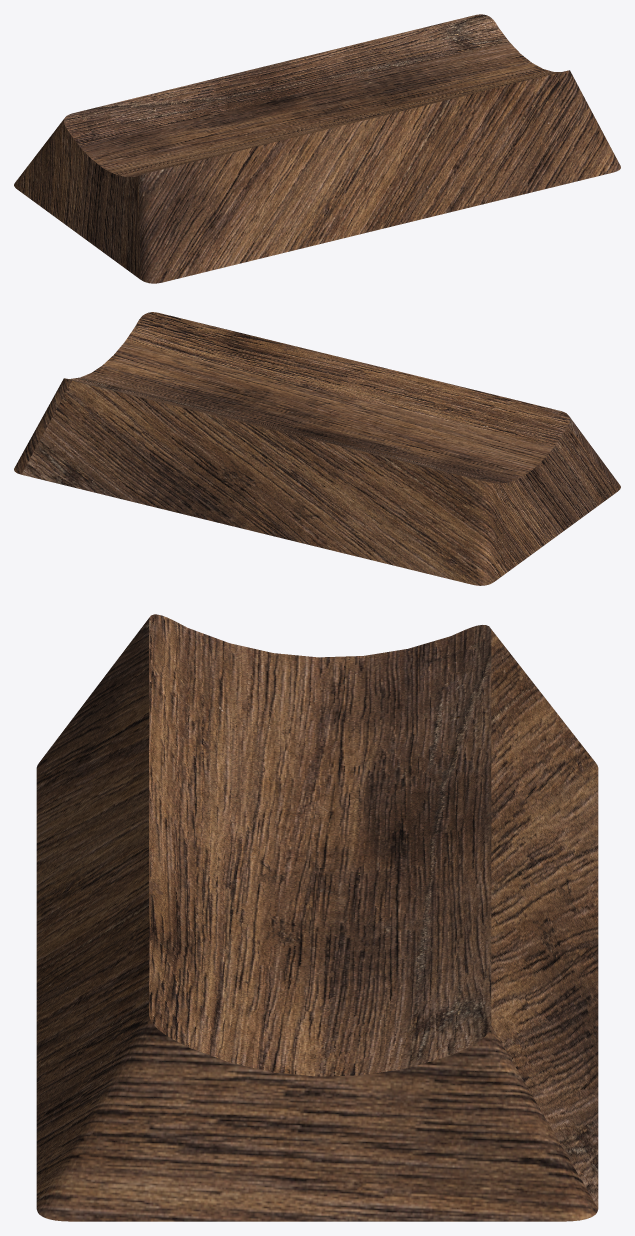
Rendered from holder.glb.
The picture shows the model from 3 angles, top to bottom: view 1: azimuth 30°, elevation 25°; view 2: azimuth 150°, elevation 25°; view 3: azimuth 270°, elevation 25°; orthographic projection. The views are drawn at different scales.
Visible parts, largest first — view 1: Holder; view 2: Holder; view 3: Holder.
Part boxes in pixels (bbox=[...]): Holder: bbox=[14, 14, 620, 283]; Holder: bbox=[14, 312, 620, 585]; Holder: bbox=[36, 614, 598, 1221].
Size of the model in its own units: 4.44 by 0.7615 by 2.26.
Materials: 1 (1 with a texture image).
